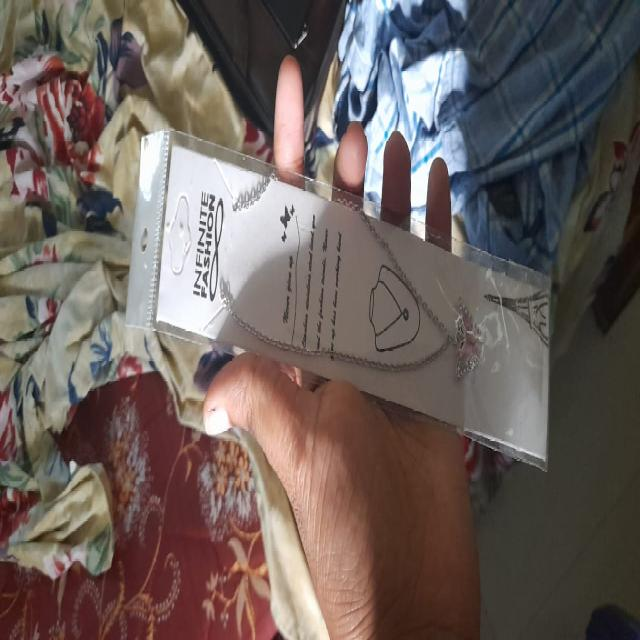Plastic - Recyclable: (124, 124, 553, 474)
